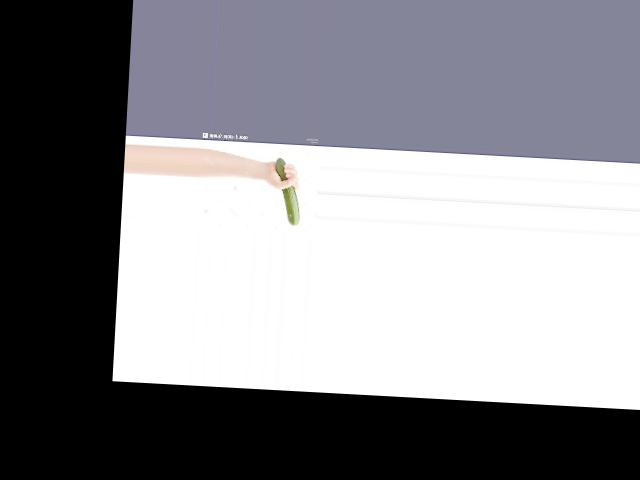cucumber: (273, 157, 303, 225)
